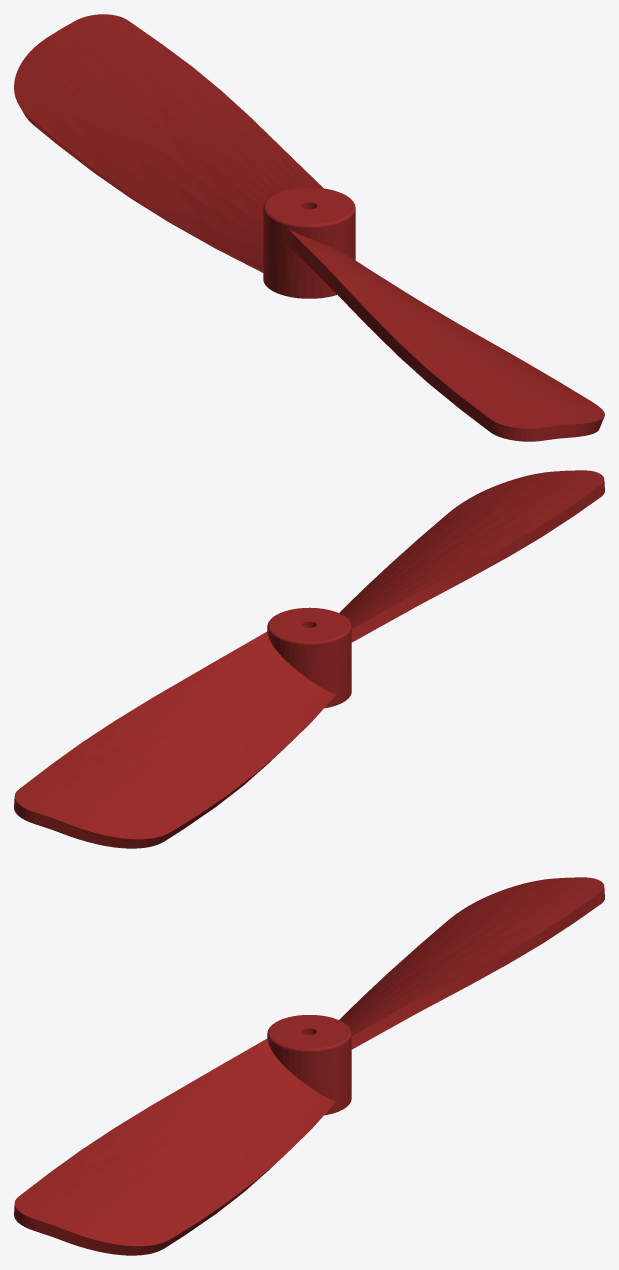
Rendered from crazyflie_propeller_cw.dae.
3 renders of one model, top to bottom at view 1: azimuth 30°, elevation 25°; view 2: azimuth 150°, elevation 25°; view 3: azimuth 330°, elevation 25°, orthographic. The views are drawn at different scales.
Parts seen in each view (by area): view 1: propeller_cw_Default_sldprt; view 2: propeller_cw_Default_sldprt; view 3: propeller_cw_Default_sldprt.
Boxes of the visible parts, x1,y1,x2,y2 form: propeller_cw_Default_sldprt: (14, 14, 604, 441); propeller_cw_Default_sldprt: (14, 470, 604, 848); propeller_cw_Default_sldprt: (14, 877, 604, 1255).
Size of the model in its own units: 0.00691 by 0.0462 by 0.0035.
